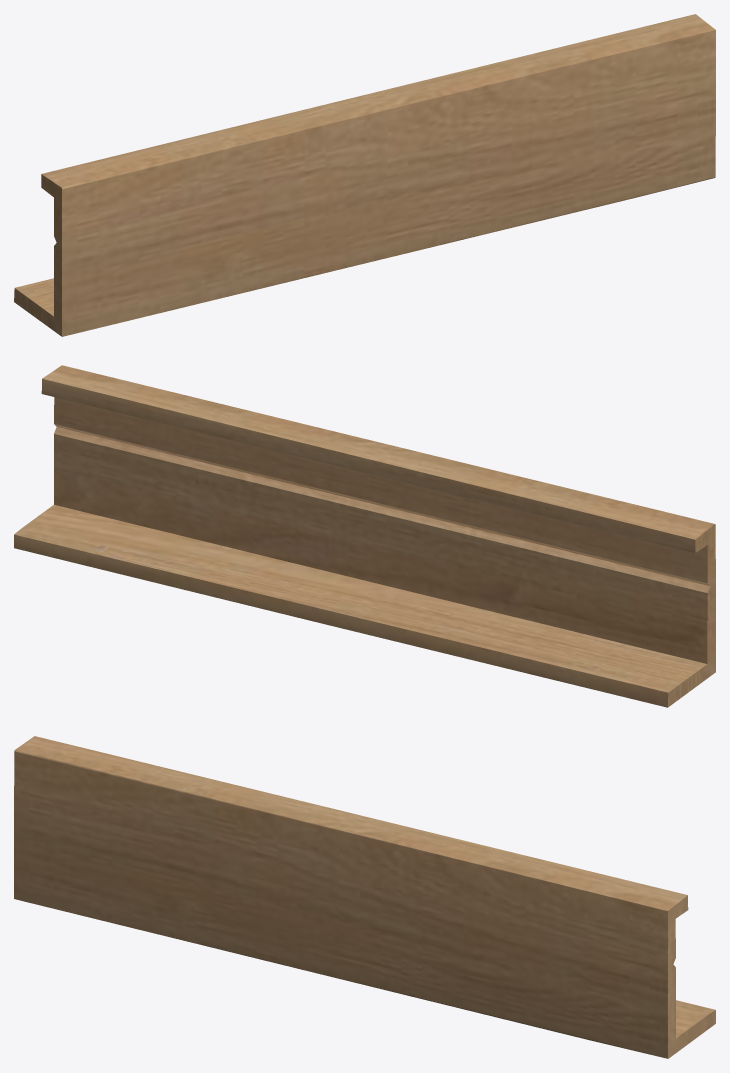
Rendered from 25 - MOSSLANDA Picture ledge - oak effect 55 cm.glb.
3 views of the same model, one above another, from view 1: azimuth 30°, elevation 25°; view 2: azimuth 150°, elevation 25°; view 3: azimuth 330°, elevation 25° (orthographic).
Visible parts, largest first — view 1: ASY_ART_80589835_S01_NV01; view 2: ASY_ART_80589835_S01_NV01; view 3: ASY_ART_80589835_S01_NV01.
Boxes of the visible parts, x1,y1,x2,y2 form: ASY_ART_80589835_S01_NV01: (14,14,715,336); ASY_ART_80589835_S01_NV01: (14,365,715,707); ASY_ART_80589835_S01_NV01: (14,736,715,1058).
Bounding box in the file's own units: 0.5503 × 0.1204 × 0.0702.
1 material, 1 textured.
